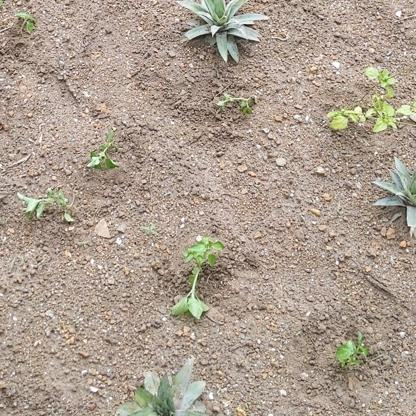pineapple: (172, 1, 269, 66), (120, 356, 210, 416), (372, 155, 416, 236)
weed: (321, 66, 416, 134), (170, 235, 224, 320), (14, 186, 80, 225), (86, 132, 128, 173), (336, 330, 373, 370), (213, 90, 264, 116)
